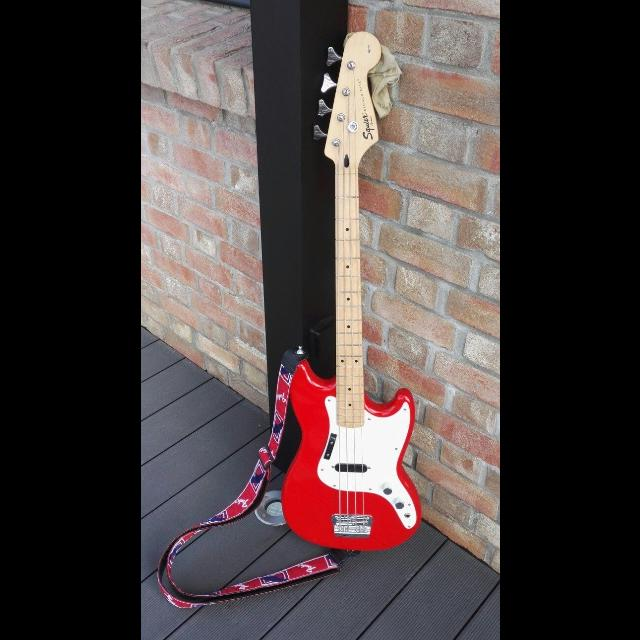Electric-Guitar: (158, 1, 500, 590)
